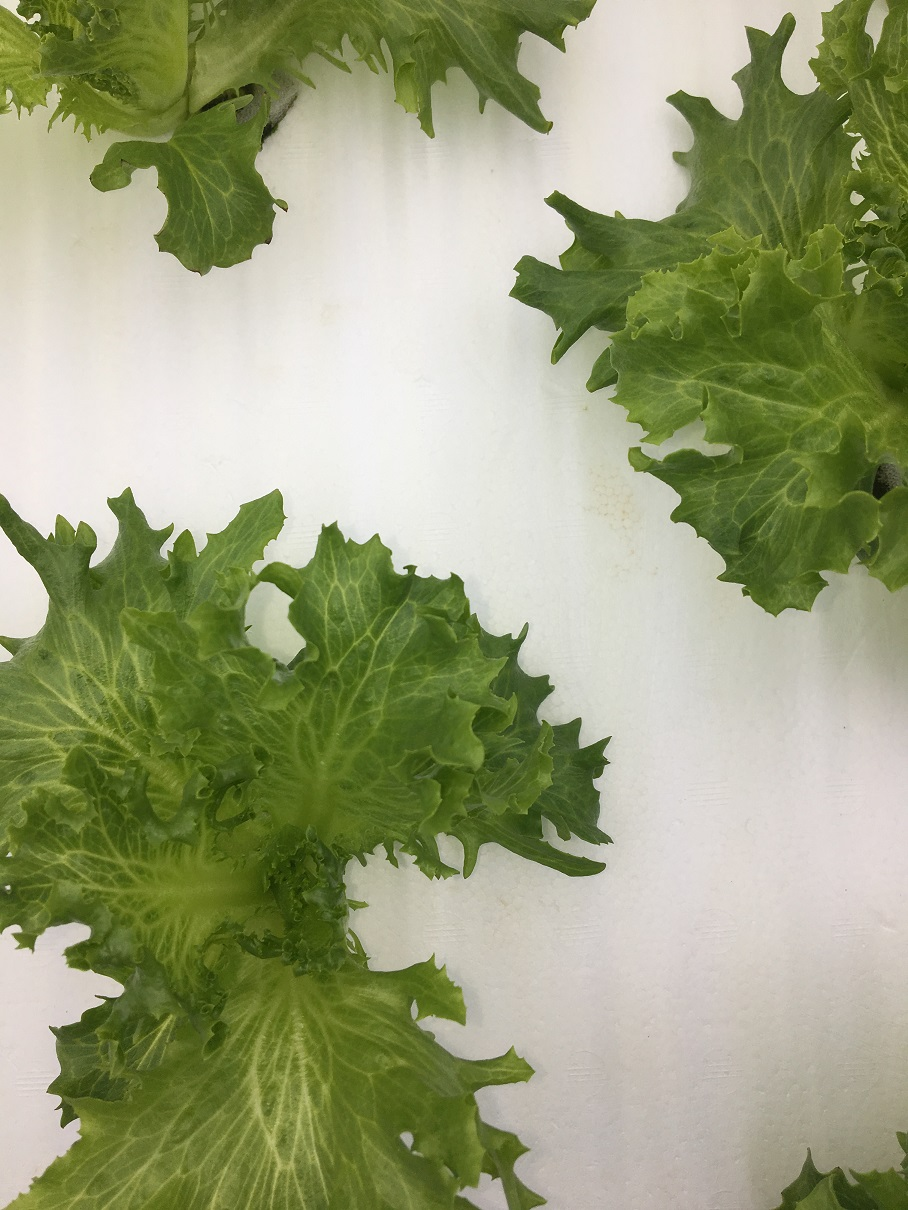tipburn: (113, 154, 132, 170), (263, 237, 280, 253), (185, 264, 202, 280), (279, 200, 293, 219)
